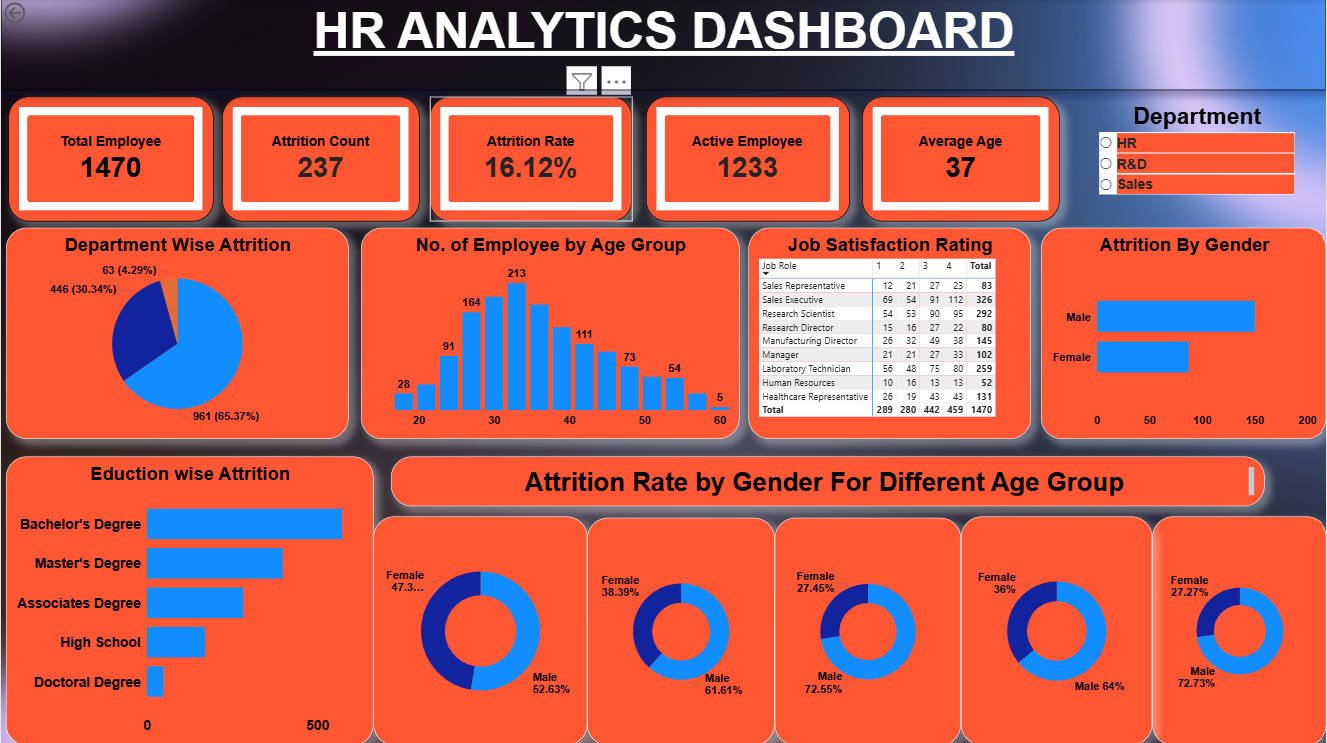

This screenshot's page, from the dashboard's own definition file:
{"tool":"powerbi","page":{"name":"Page 1","canvas":[1920,1080],"ordinal":0},"visuals":[{"type":"cardVisual","fields":{"Data":["Sum(HR Data.Employee Count)"]},"box":[10.1,141.5,296.8,181],"z":0},{"type":"cardVisual","fields":{"Data":["Sum(HR Data.Attrition CountC)"]},"box":[319.6,141.5,285.9,181],"z":1000},{"type":"cardVisual","fields":{"Data":["HR Data.Attrition Rate"]},"box":[620,141.5,293.2,181],"z":2000},{"type":"cardVisual","fields":{"Data":["HR Data.Active Employee"]},"box":[933.1,141.5,295,181],"z":3000},{"type":"cardVisual","fields":{"Data":["Avg(HR Data.Age)"]},"box":[1246.1,141.5,285.9,181],"z":4000},{"type":"pieChart","title":"Department Wise Attrition","fields":{"Category":["HR Data.Department"],"Y":["CountNonNull(HR Data.Attrition)"]},"box":[7.2,331.2,495.8,305.8],"z":5000},{"type":"barChart","title":"Eduction wise Attrition","fields":{"Category":["HR Data.Education"],"Y":["CountNonNull(HR Data.Attrition)"]},"box":[7.2,662.3,532,418],"z":6000},{"type":"clusteredColumnChart","title":"No. of Employee by Age Group","fields":{"Y":["Sum(HR Data.Employee Count)"],"Category":["HR Data.Age (bins)"]},"box":[521.2,331.2,548.3,305.8],"z":7000},{"type":"pivotTable","title":"Job Satisfaction Rating","fields":{"Rows":["HR Data.Job Role"],"Columns":["HR Data.Job Satisfaction"],"Values":["Sum(HR Data.Employee Count)"]},"box":[1082.2,331.2,409,305.8],"z":8000},{"type":"donutChart","fields":{"Category":["HR Data.Gender"],"Y":["Sum(HR Data.Attrition CountC)"]},"box":[539.3,749.2,309.5,331.2],"z":9000},{"type":"donutChart","fields":{"Category":["HR Data.Gender"],"Y":["Sum(HR Data.Attrition CountC)"]},"box":[848.7,751,271.4,329.4],"z":10000},{"type":"donutChart","fields":{"Category":["HR Data.Gender"],"Y":["Sum(HR Data.Attrition CountC)"]},"box":[1120.2,751,269.6,329.4],"z":11000},{"type":"donutChart","fields":{"Category":["HR Data.Gender"],"Y":["Sum(HR Data.Attrition CountC)"]},"box":[1666.7,749.2,253.4,331.2],"z":12000},{"type":"donutChart","fields":{"Category":["HR Data.Gender"],"Y":["Sum(HR Data.Attrition CountC)"]},"box":[1389.8,749.2,276.9,331.2],"z":13000},{"type":"actionButton","box":[0,0,100,40],"z":14000},{"type":"barChart","title":"Attrition By Gender","fields":{"Category":["HR Data.Gender"],"Y":["Sum(HR Data.Attrition CountC)"]},"box":[1505.6,331.2,414.4,305.8],"z":15000},{"type":"textbox","box":[0,0,1920.1,132.1],"z":16000},{"type":"textbox","box":[564.6,662.3,1265,72.4],"z":17000},{"type":"listSlicer","fields":{"Values":["HR Data.Department"]},"box":[1585.3,150.2,293.2,181],"z":18000}]}

Visuals, with their boxes in screenshot pixels (x1, y1, x2, y2), scaled from the page's 1920x1080 canvas onto the 1327x743 screenshot:
cardVisual - Sum(HR Data.Employee Count): (x1=7, y1=97, x2=212, y2=222)
cardVisual - Sum(HR Data.Attrition CountC): (x1=221, y1=97, x2=418, y2=222)
cardVisual - HR Data.Attrition Rate: (x1=429, y1=97, x2=631, y2=222)
cardVisual - HR Data.Active Employee: (x1=645, y1=97, x2=849, y2=222)
cardVisual - Avg(HR Data.Age): (x1=861, y1=97, x2=1059, y2=222)
"Department Wise Attrition" pieChart: (x1=5, y1=228, x2=348, y2=438)
"Eduction wise Attrition" barChart: (x1=5, y1=456, x2=373, y2=742)
"No. of Employee by Age Group" clusteredColumnChart: (x1=360, y1=228, x2=739, y2=438)
"Job Satisfaction Rating" pivotTable: (x1=748, y1=228, x2=1031, y2=438)
donutChart - HR Data.Gender x Sum(HR Data.Attrition CountC): (x1=373, y1=515, x2=587, y2=742)
donutChart - HR Data.Gender x Sum(HR Data.Attrition CountC): (x1=587, y1=517, x2=774, y2=742)
donutChart - HR Data.Gender x Sum(HR Data.Attrition CountC): (x1=774, y1=517, x2=961, y2=742)
donutChart - HR Data.Gender x Sum(HR Data.Attrition CountC): (x1=1152, y1=515, x2=1326, y2=742)
donutChart - HR Data.Gender x Sum(HR Data.Attrition CountC): (x1=961, y1=515, x2=1152, y2=742)
actionButton: (x1=0, y1=0, x2=69, y2=28)
"Attrition By Gender" barChart: (x1=1041, y1=228, x2=1326, y2=438)
textbox: (x1=0, y1=0, x2=1326, y2=91)
textbox: (x1=390, y1=456, x2=1265, y2=505)
listSlicer - HR Data.Department: (x1=1096, y1=103, x2=1298, y2=228)
